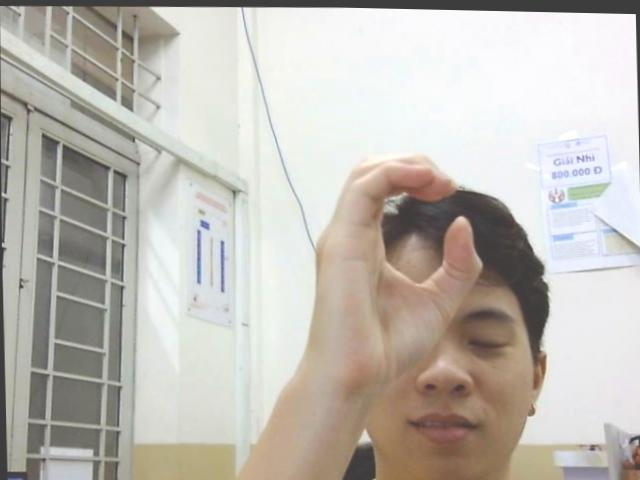C: (307, 144, 485, 390)
